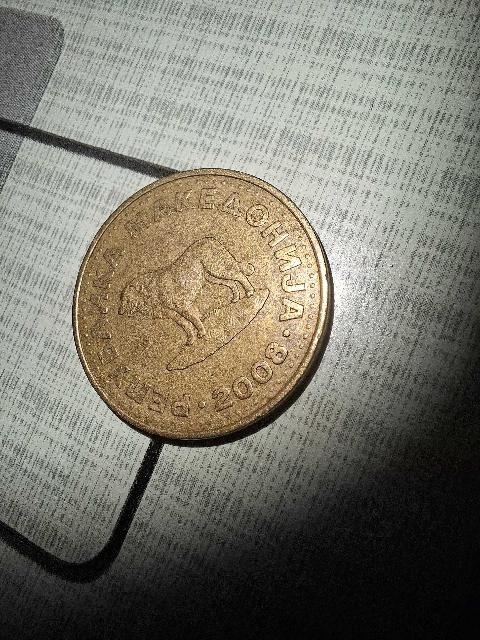1_coin: (73, 169, 333, 439)
